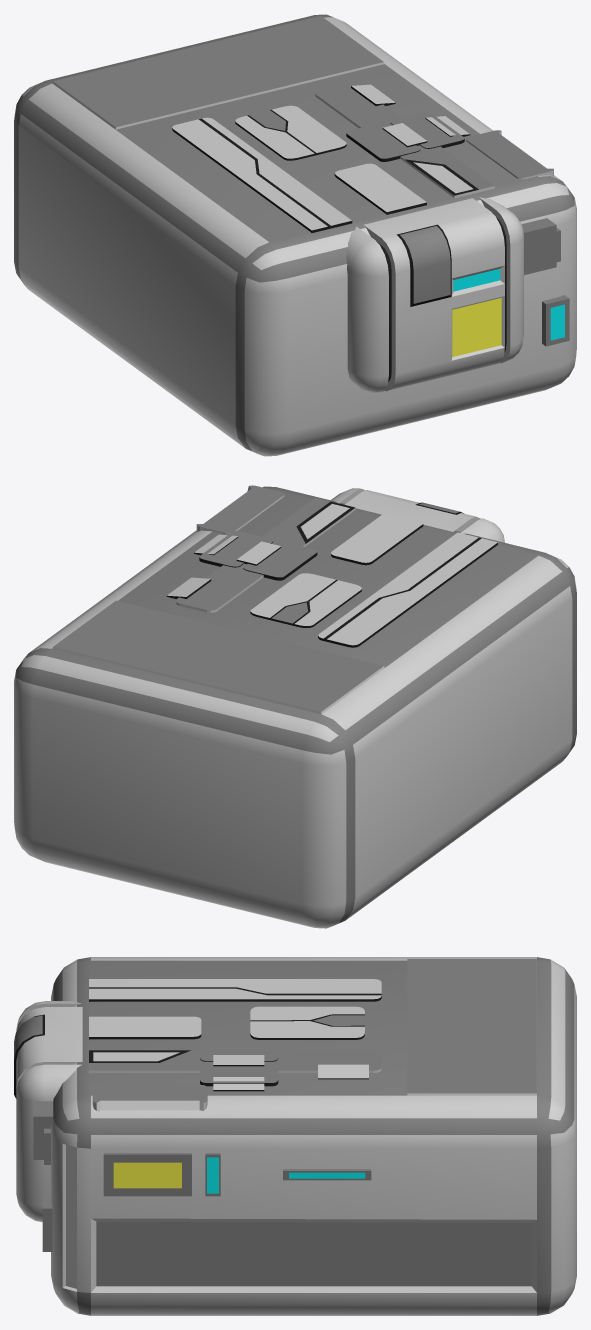
File: Platform_007.fbx
3 views of the same model, one above another, from view 1: azimuth 30°, elevation 25°; view 2: azimuth 150°, elevation 25°; view 3: azimuth 270°, elevation 25° (orthographic). The views are drawn at different scales.
Visible parts, largest first — view 1: Platform_007; view 2: Platform_007; view 3: Platform_007.
Boxes of the visible parts, box(x1,y1,x2,y2) form: Platform_007: box(14, 14, 576, 456); Platform_007: box(14, 485, 576, 928); Platform_007: box(14, 957, 576, 1315).
Size of the model in its own units: 553 by 335 by 771.
